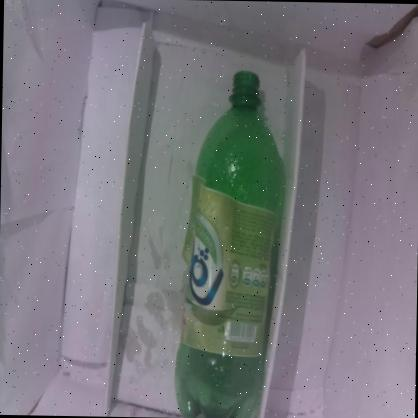bottle: (166, 52, 291, 418)
